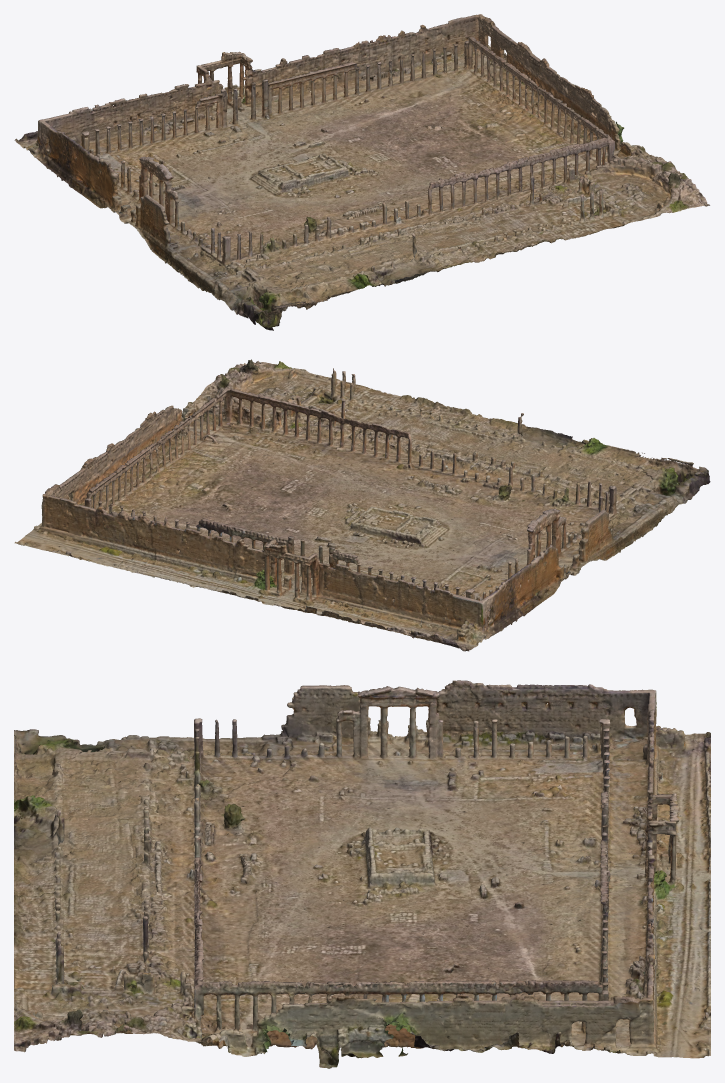
The picture shows the model from 3 angles, top to bottom: view 1: azimuth 30°, elevation 25°; view 2: azimuth 150°, elevation 25°; view 3: azimuth 270°, elevation 25°; orthographic projection. The views are drawn at different scales.
Visible parts, largest first — view 1: LBY_001_M4_Gymnasium; view 2: LBY_001_M4_Gymnasium; view 3: LBY_001_M4_Gymnasium.
Boxes of the visible parts, box(x1,y1,x2,y2) form: LBY_001_M4_Gymnasium: box(14, 14, 709, 330); LBY_001_M4_Gymnasium: box(14, 359, 710, 651); LBY_001_M4_Gymnasium: box(14, 680, 710, 1068).
Bounding box in the file's own units: 101 × 15.01 × 92.91.
1 material, 1 textured.
